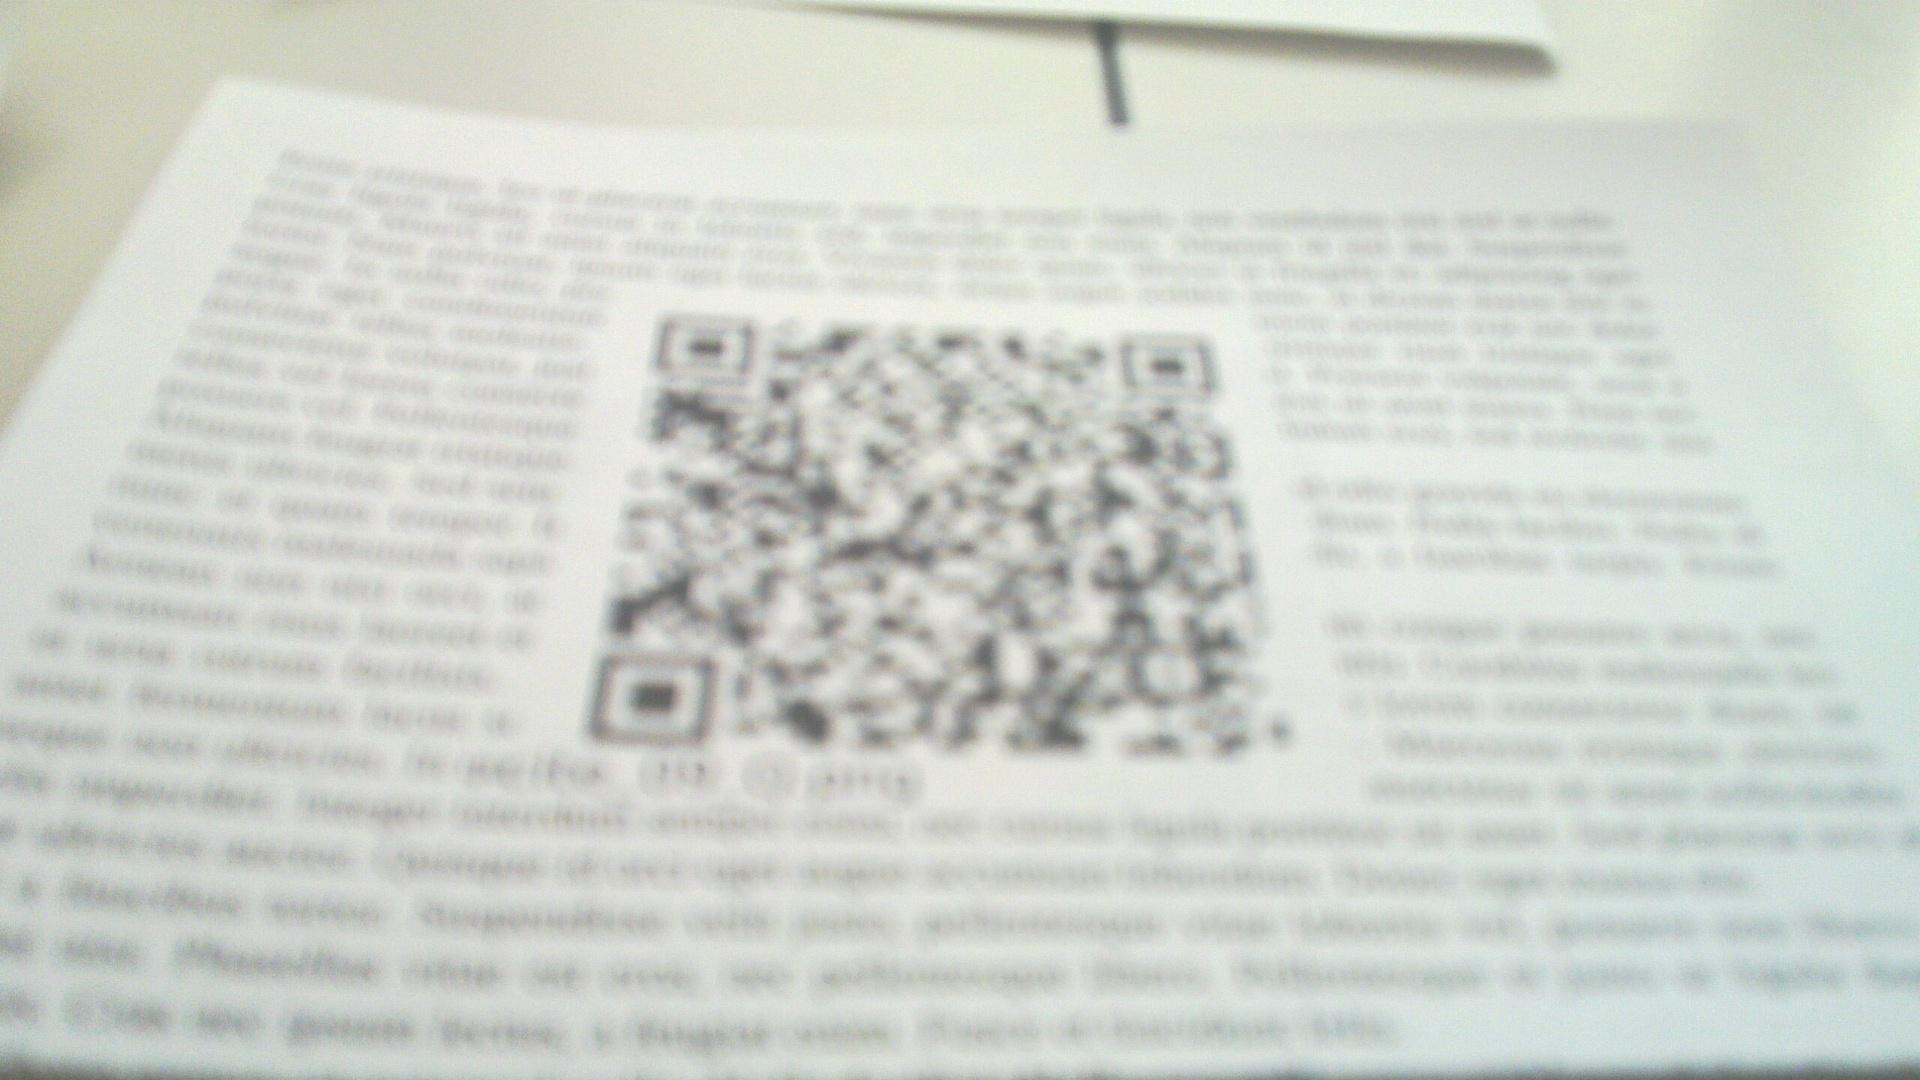Finder pattern: (574, 650, 729, 753), (644, 309, 761, 385), (1109, 324, 1225, 398)
